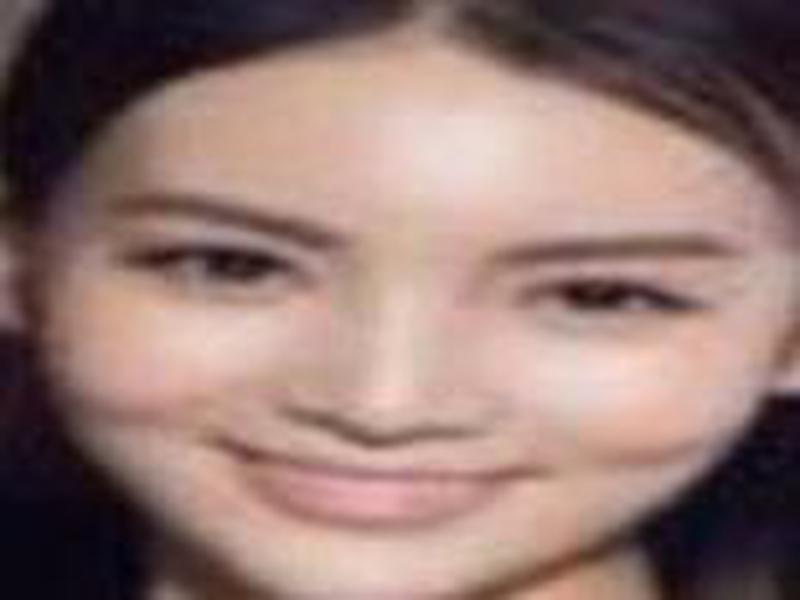without_mask: (38, 91, 775, 600)
